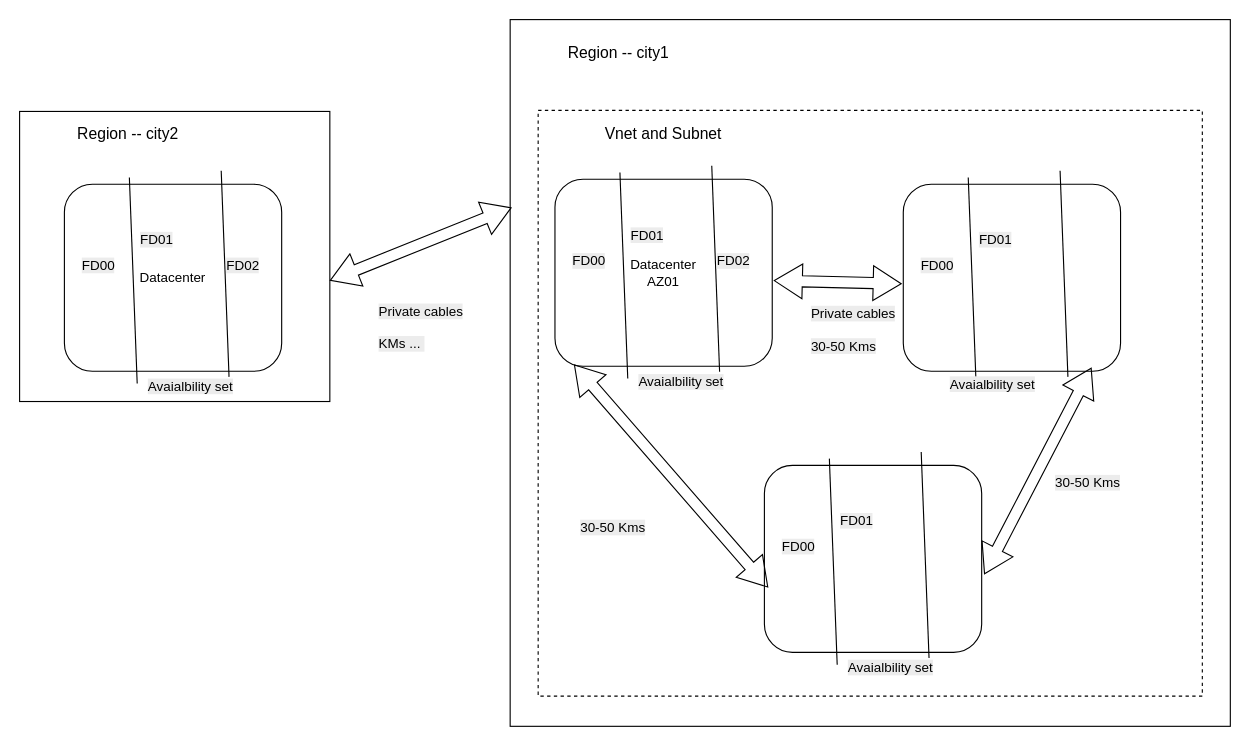
Image size: 1250x746. Some labels were removed from this diagram. The box of each missing label's shape, as (x1, y1, x2, y2) in pixels:
Datacenter AZ02: (902, 183, 1121, 371)
Datacenter AZ03: (763, 464, 982, 652)
